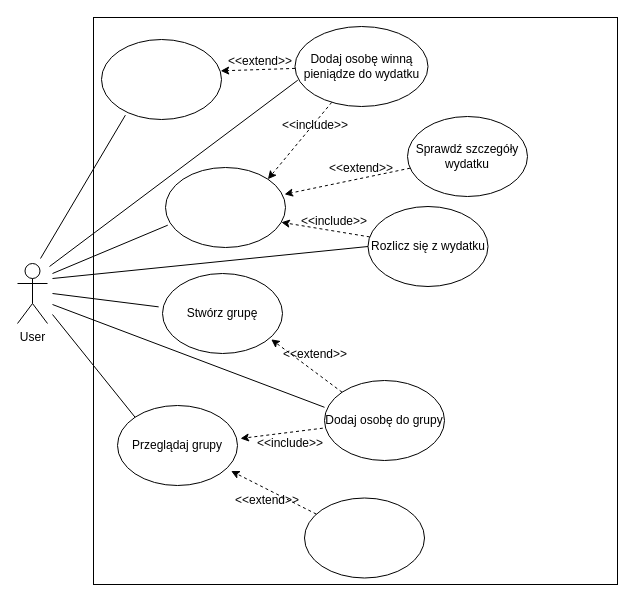
This 635x602 diagram has some shape labels left out. The box of each missing label's shape, as (x1, y1, x2, y2) in pixels:
Dodaj wydatek: (100, 38, 222, 120)
Przeglądaj osoby w grupie: (304, 497, 424, 578)
Przeglądaj wydatki: (164, 166, 286, 248)
